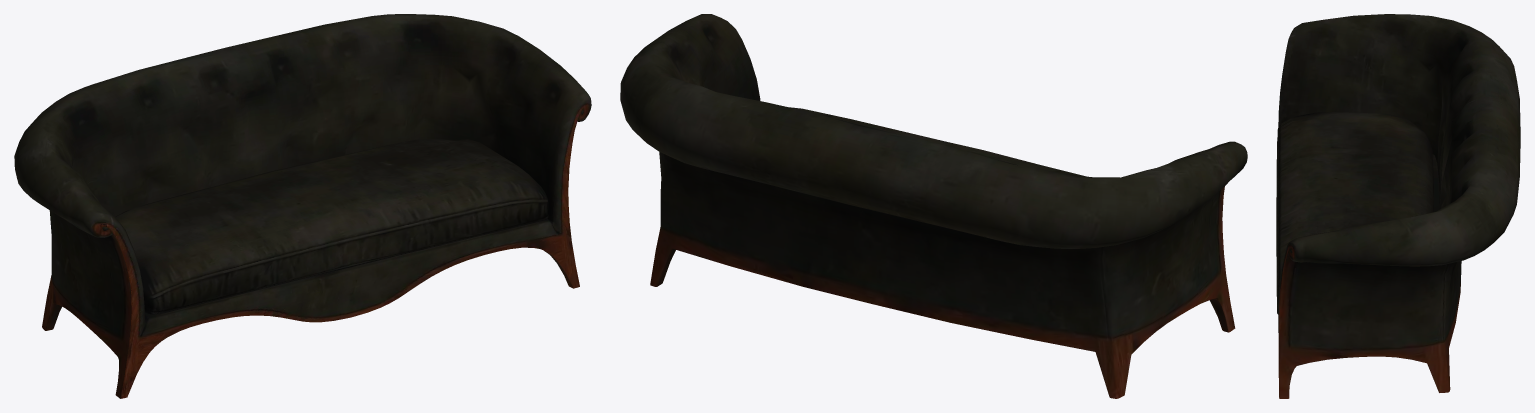
File: sofa_02.glb
3 renders of one model, left to right at view 1: azimuth 30°, elevation 25°; view 2: azimuth 150°, elevation 25°; view 3: azimuth 270°, elevation 25°, orthographic. The views are drawn at different scales.
Parts seen in each view (by area): view 1: sofa_02_Base; view 2: sofa_02_Base; view 3: sofa_02_Base.
Boxes of the visible parts, bbox=[...] form: sofa_02_Base: bbox=[14, 14, 591, 398]; sofa_02_Base: bbox=[620, 14, 1247, 398]; sofa_02_Base: bbox=[1276, 14, 1520, 398].
Bounding box in the file's own units: 1.81 × 0.7095 × 0.8176.
Materials: 1 (1 with a texture image).
